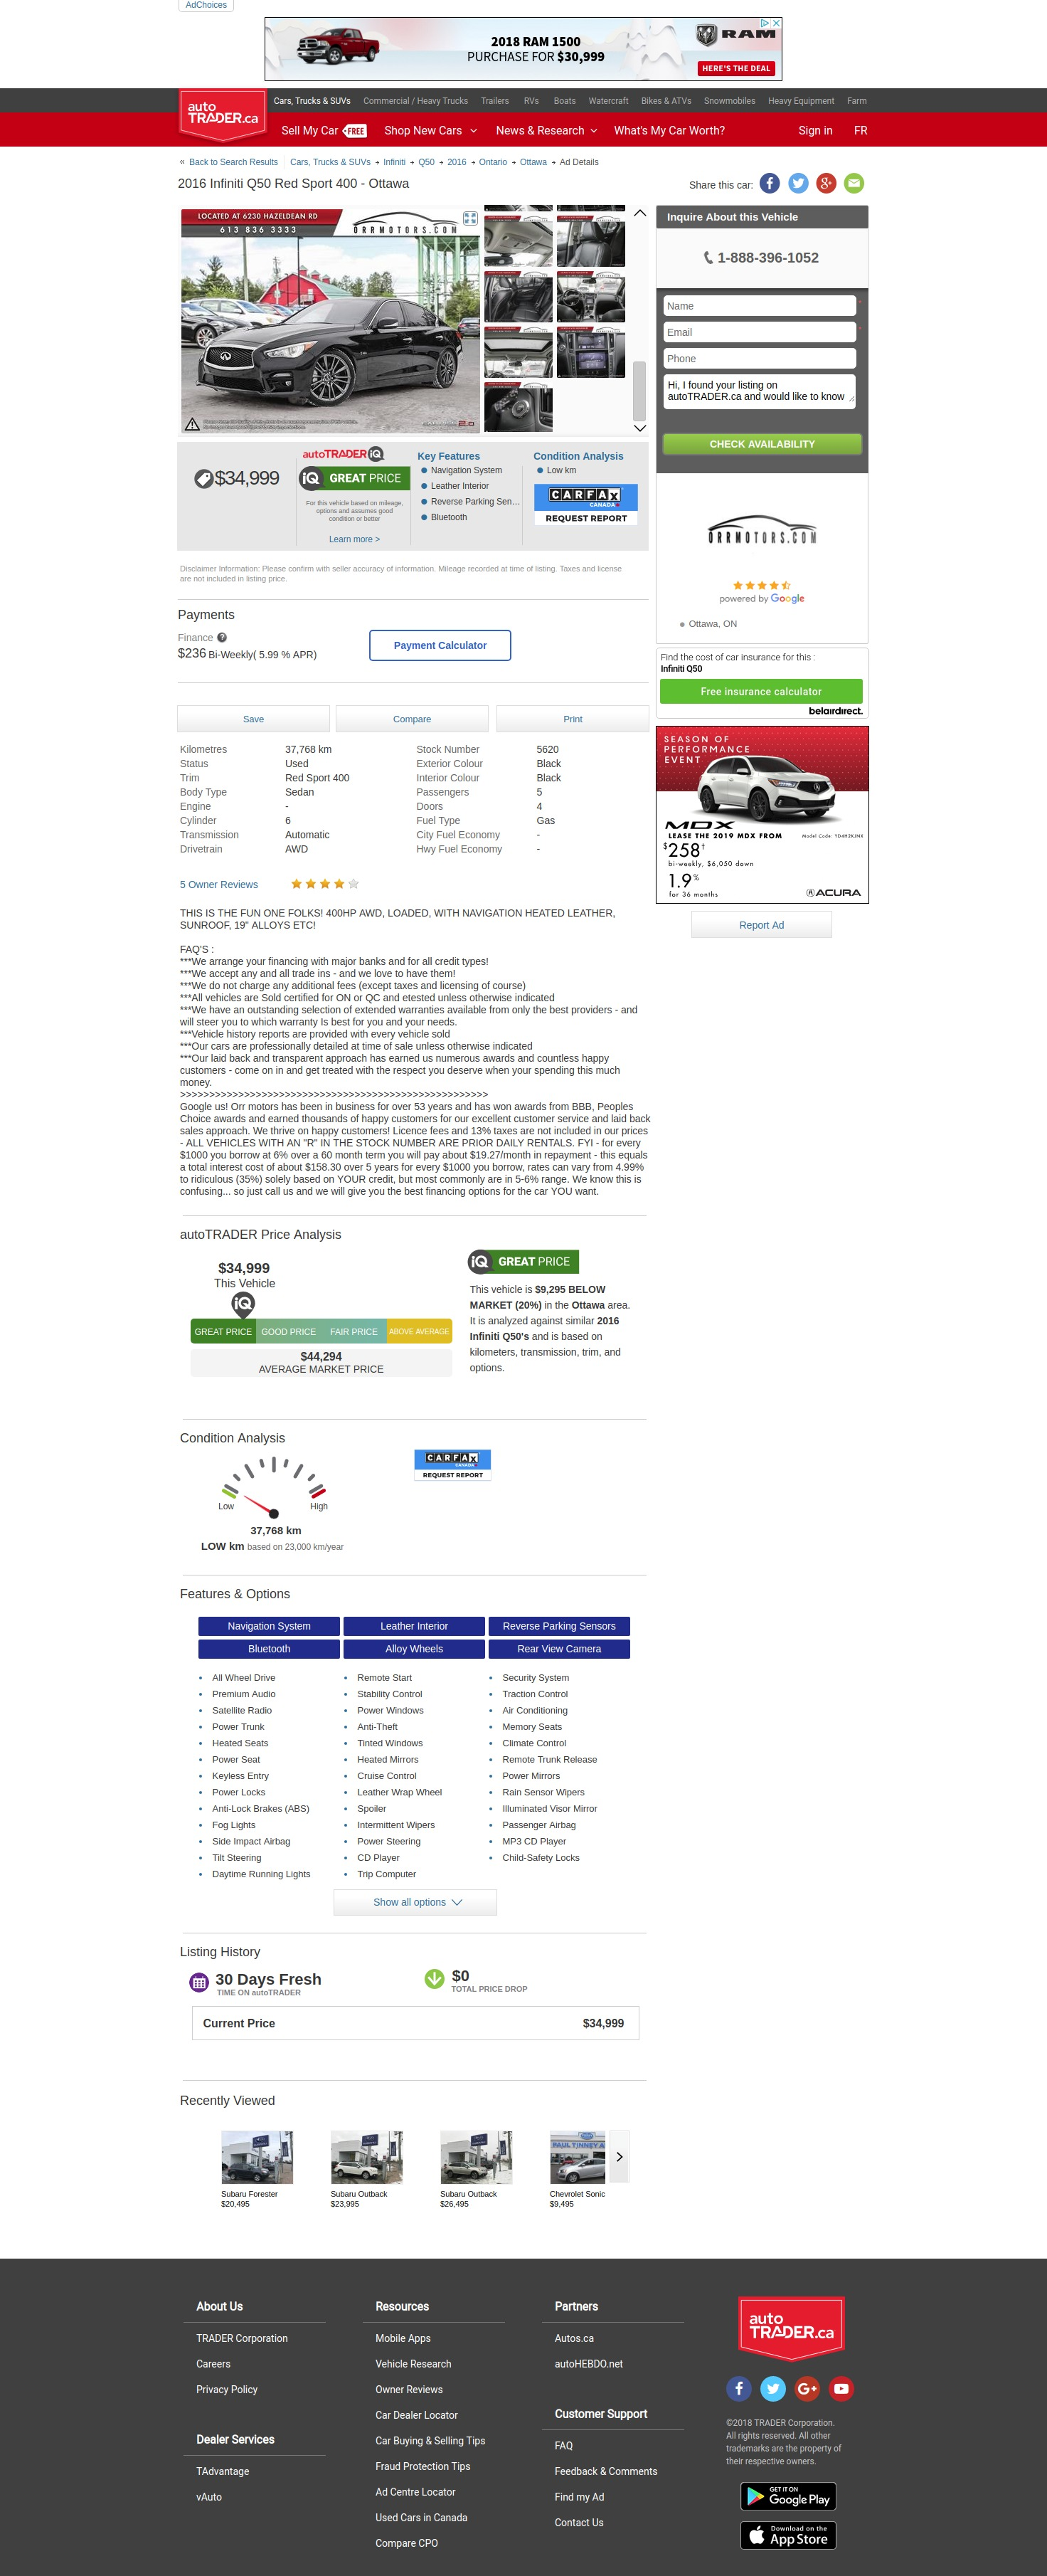car: (633, 424, 648, 434)
